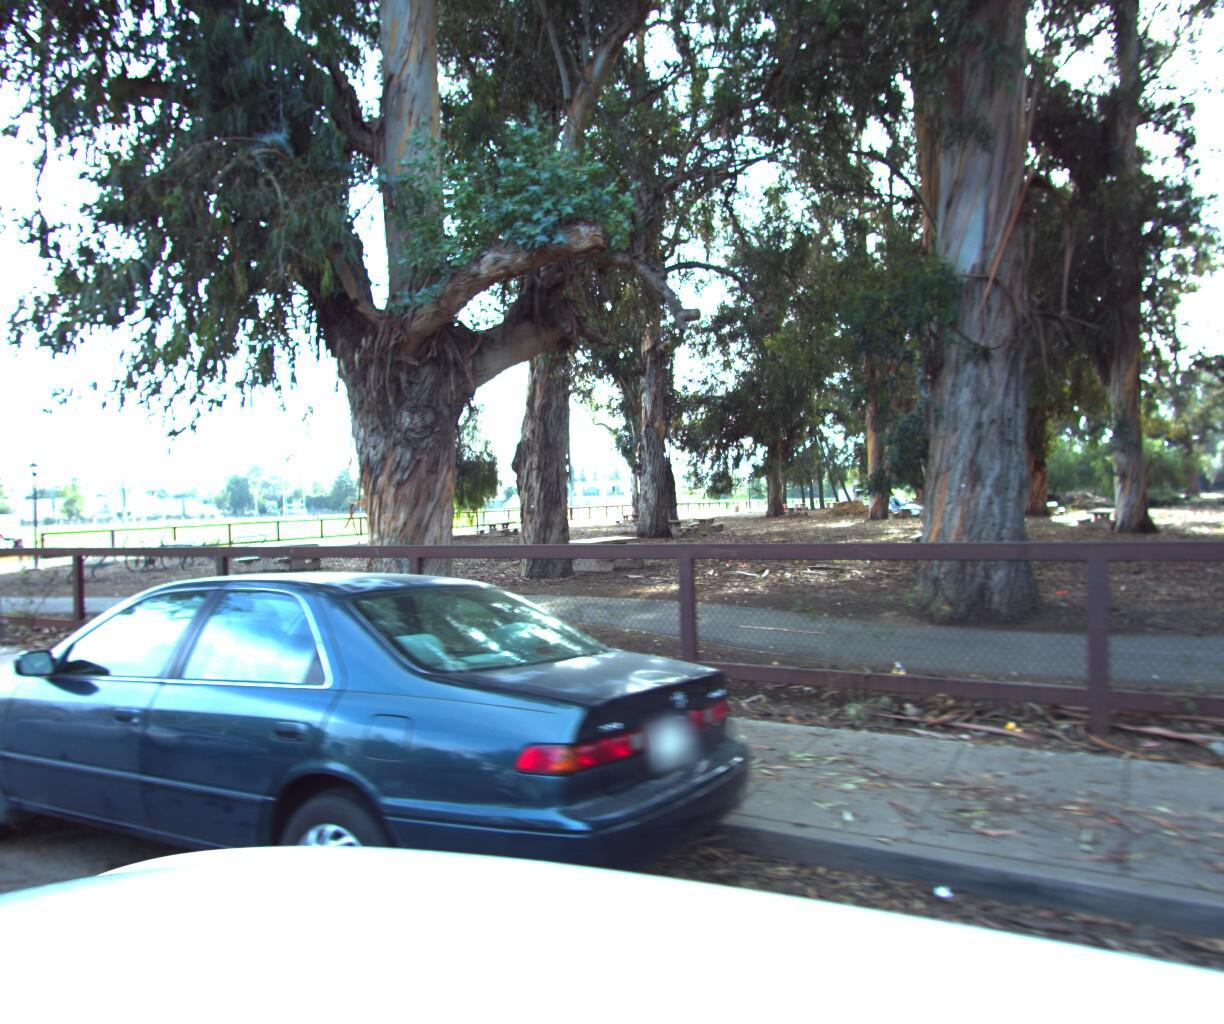car: (0, 561, 776, 1024), (0, 552, 2, 798)
